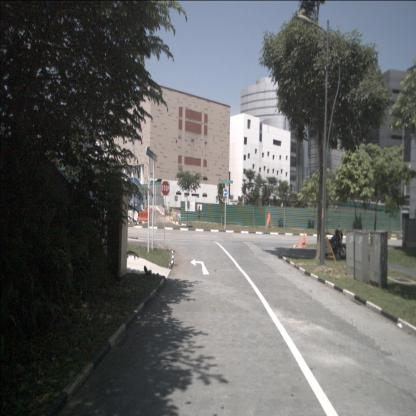human-pedestrian-adult: (198, 206, 200, 222)
movable_object-barrier: (138, 211, 150, 222), (128, 211, 138, 221)
movable_object-trafficcone: (302, 234, 307, 248), (298, 233, 302, 246)
vehicle-motorcycle: (320, 224, 347, 260)
